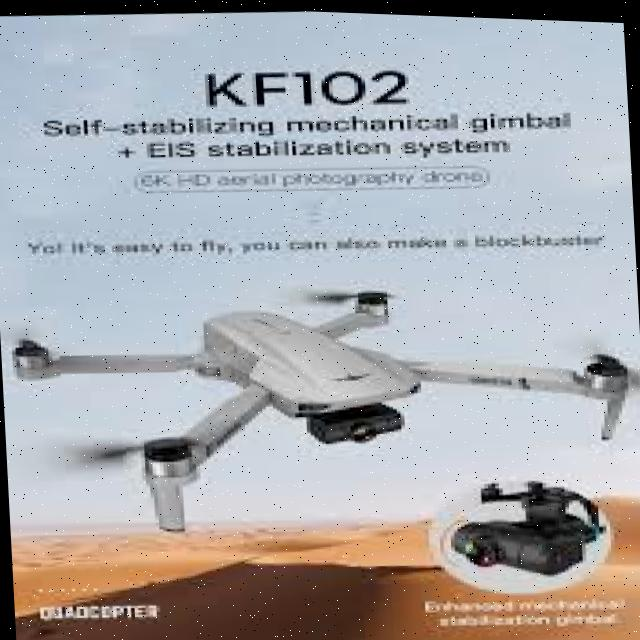drone: (0, 251, 640, 553)
